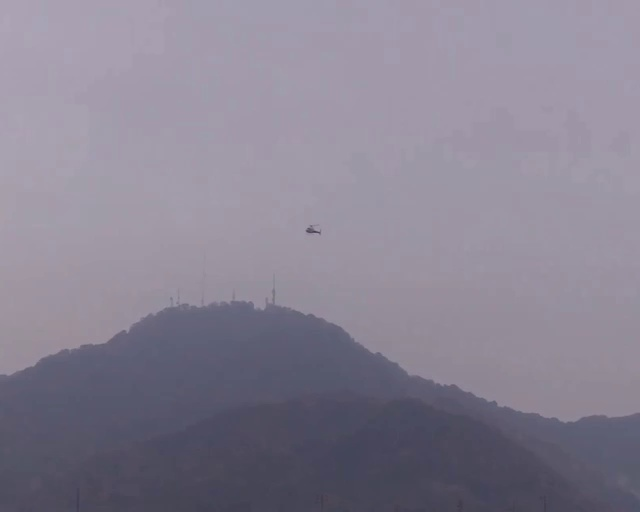HELICOPTER: (306, 224, 321, 235)
